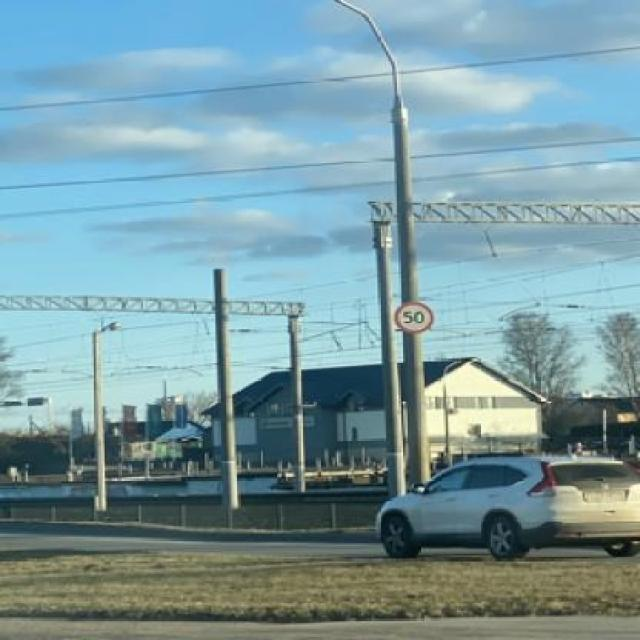forb_speed_over_50: (396, 302, 435, 336)
